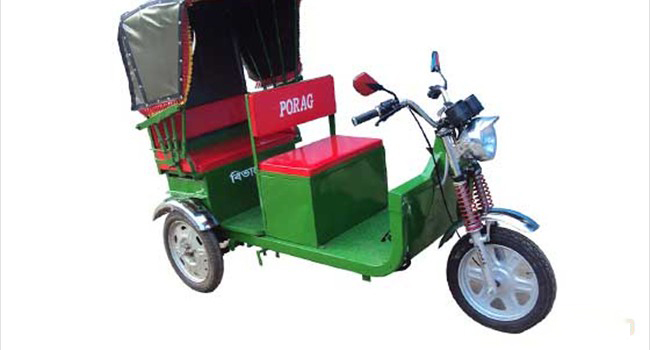Rickshaw: (112, 3, 566, 333)
